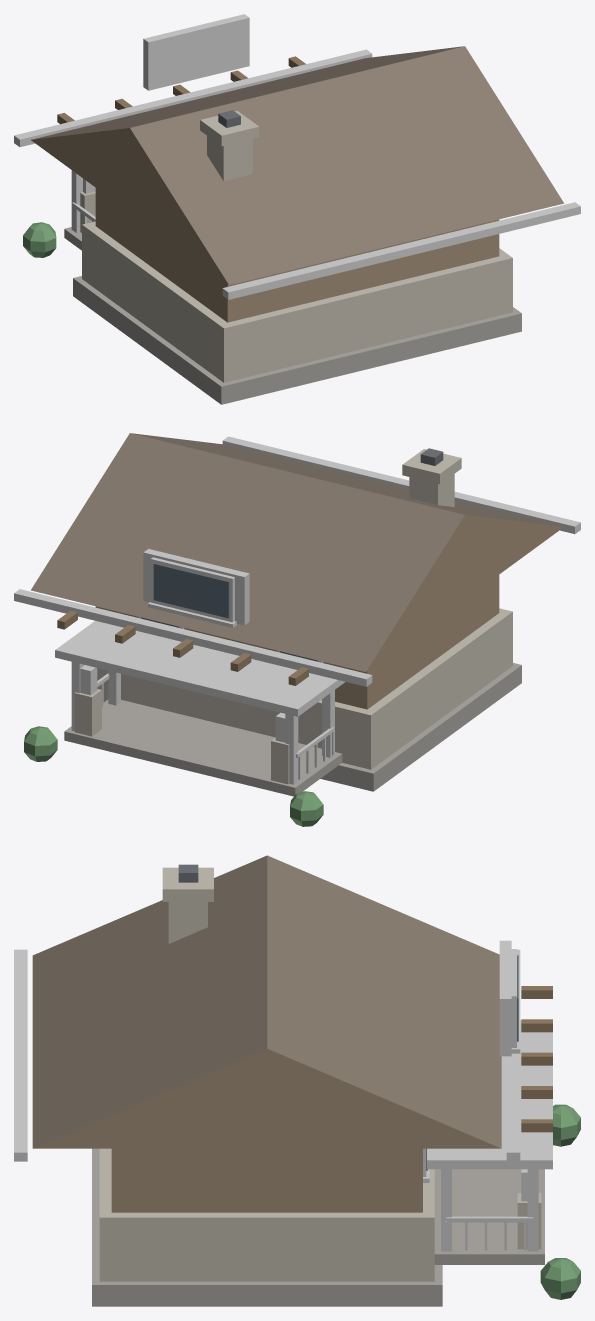
Rendered from craftsman_bungalow.glb.
The picture shows the model from 3 angles, top to bottom: view 1: azimuth 30°, elevation 25°; view 2: azimuth 150°, elevation 25°; view 3: azimuth 270°, elevation 25°; orthographic projection. The views are drawn at different scales.
Parts seen in each view (by area): view 1: Mesh; view 2: Mesh; view 3: Mesh.
Boxes of the visible parts, bbox=[...] form: Mesh: bbox=[14, 14, 580, 404]; Mesh: bbox=[14, 433, 580, 826]; Mesh: bbox=[14, 855, 580, 1306].
Size of the model in its own units: 12.2 by 8.25 by 14.38.
